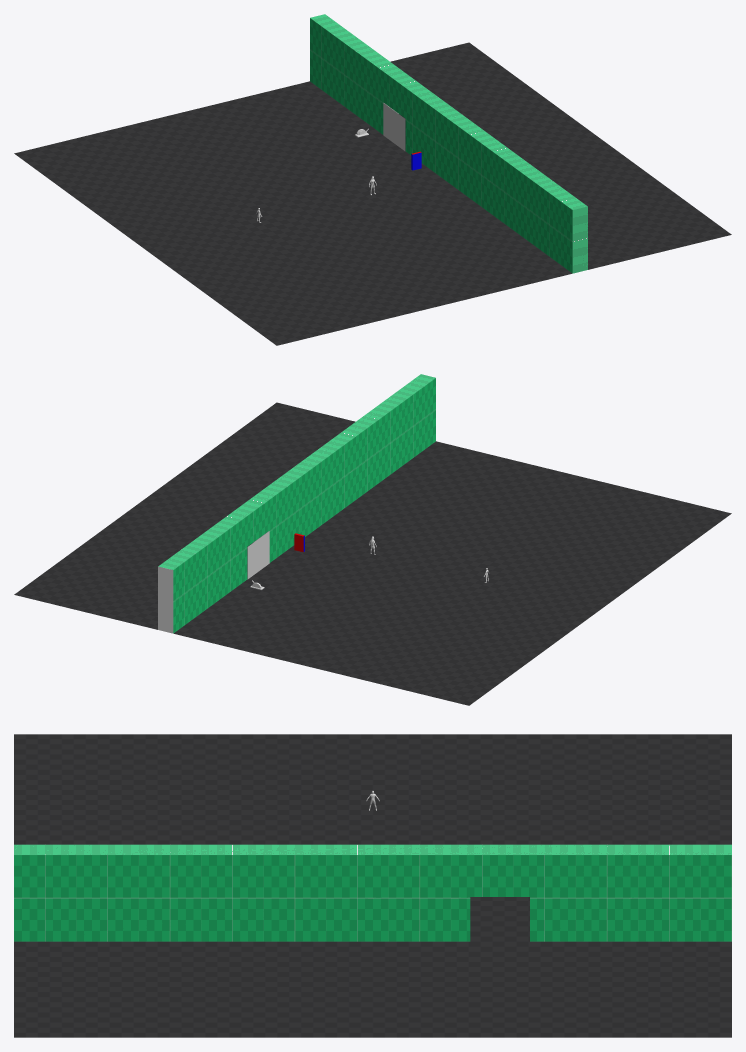
File: MAP_BETA1.glb
The picture shows the model from 3 angles, top to bottom: view 1: azimuth 30°, elevation 25°; view 2: azimuth 150°, elevation 25°; view 3: azimuth 270°, elevation 25°; orthographic projection. The views are drawn at different scales.
Visible parts, largest first — view 1: Floor, Beeg Wall, Lift Door; view 2: Floor, Beeg Wall, Lift Door; view 3: Floor, Beeg Wall.
Boxes of the visible parts, x1=… form: Floor: x1=14, y1=42, x2=731, y2=345; Beeg Wall: x1=310, y1=14, x2=587, y2=273; Lift Door: x1=383, y1=103, x2=405, y2=150; Floor: x1=14, y1=402, x2=731, y2=705; Beeg Wall: x1=158, y1=374, x2=435, y2=633; Lift Door: x1=247, y1=531, x2=269, y2=579; Floor: x1=14, y1=734, x2=731, y2=1037; Beeg Wall: x1=14, y1=844, x2=731, y2=941.
Size of what is drawn, in the model's own units: 60 by 8.02 by 60.
6 materials, 2 textured.
